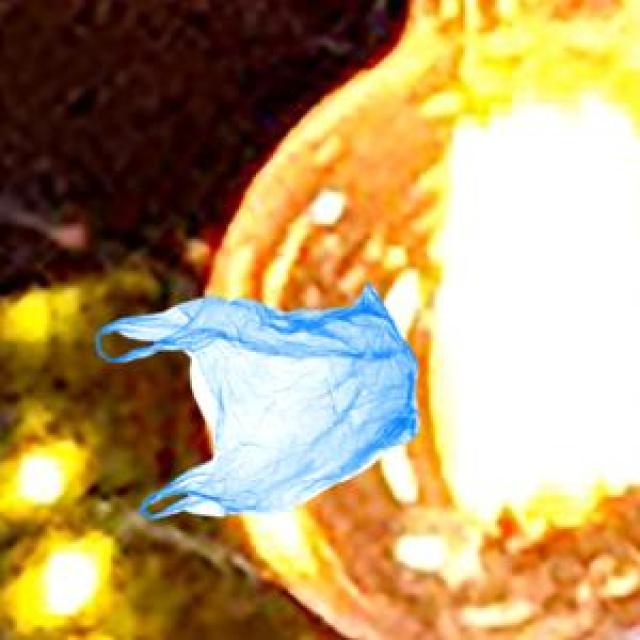plasticcover: (83, 276, 437, 533)
